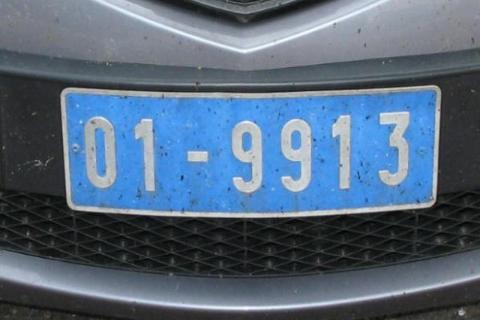LicensePlate: (60, 87, 440, 213)
